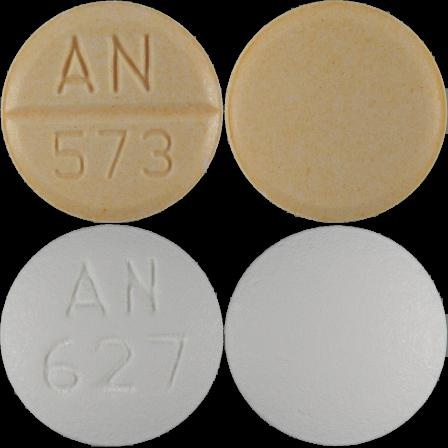65162-573: (0, 0, 224, 224)
